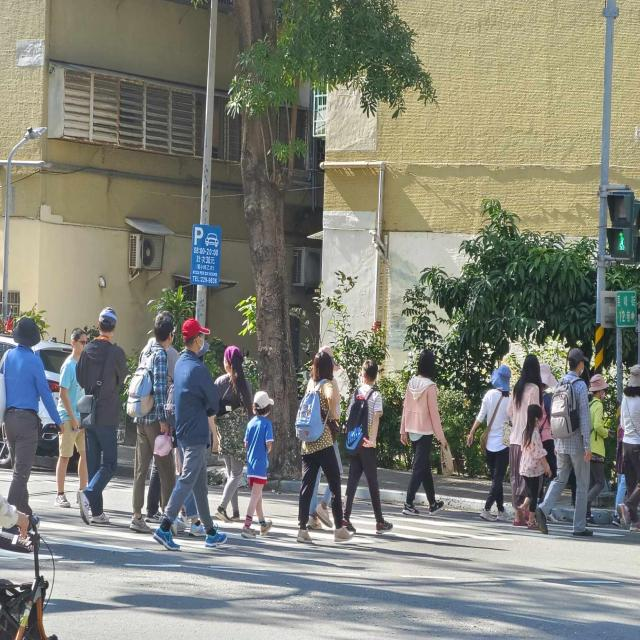person: (154, 318, 226, 550), (2, 317, 62, 515), (76, 307, 126, 525), (535, 348, 592, 538), (128, 312, 174, 532), (296, 352, 342, 543), (344, 360, 392, 534), (400, 350, 448, 517), (468, 365, 511, 522), (215, 345, 252, 522), (55, 328, 88, 507), (508, 353, 542, 510), (241, 392, 274, 538), (519, 405, 551, 528), (619, 363, 640, 532), (586, 373, 609, 524), (156, 453, 175, 508)
zebra crossing: (9, 512, 625, 559)
